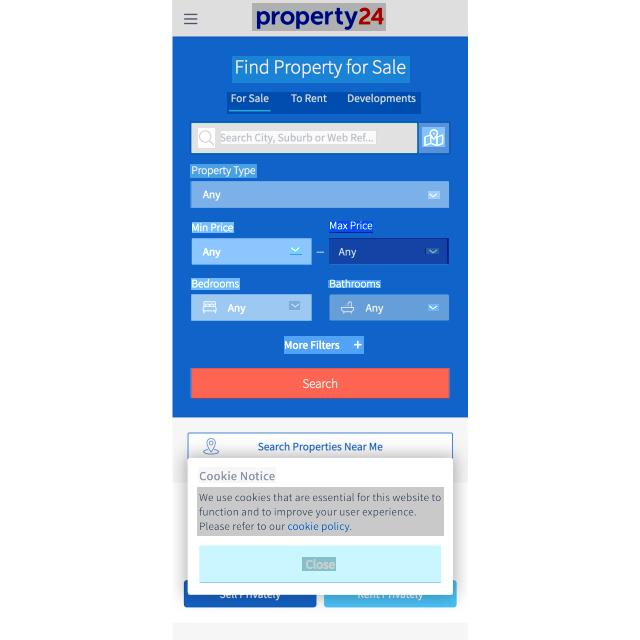CheckBox: (199, 545, 442, 582), (190, 368, 450, 398), (284, 336, 364, 354)
CheckedTextView: (192, 122, 418, 154)
Input field: (197, 487, 444, 536)
alert: (190, 181, 449, 208), (191, 294, 312, 321), (192, 238, 312, 265), (330, 294, 449, 321), (330, 238, 450, 264)
bag: (172, 0, 468, 36)
breadcrumbs: (198, 467, 276, 483)
carousel: (422, 127, 445, 147), (198, 128, 215, 148), (289, 302, 300, 312), (352, 339, 362, 349), (428, 191, 440, 199), (290, 248, 302, 255), (426, 248, 439, 254), (428, 304, 439, 311)
data feed: (190, 164, 257, 178), (191, 278, 240, 290), (329, 222, 373, 234), (302, 557, 336, 571), (192, 222, 234, 233), (328, 280, 381, 288)
date picker: (252, 3, 386, 31)
decoration: (181, 8, 202, 29)
footer: (222, 131, 378, 144)
header: (188, 458, 453, 595)
icon: (227, 92, 421, 114)
image: (232, 56, 410, 83)
